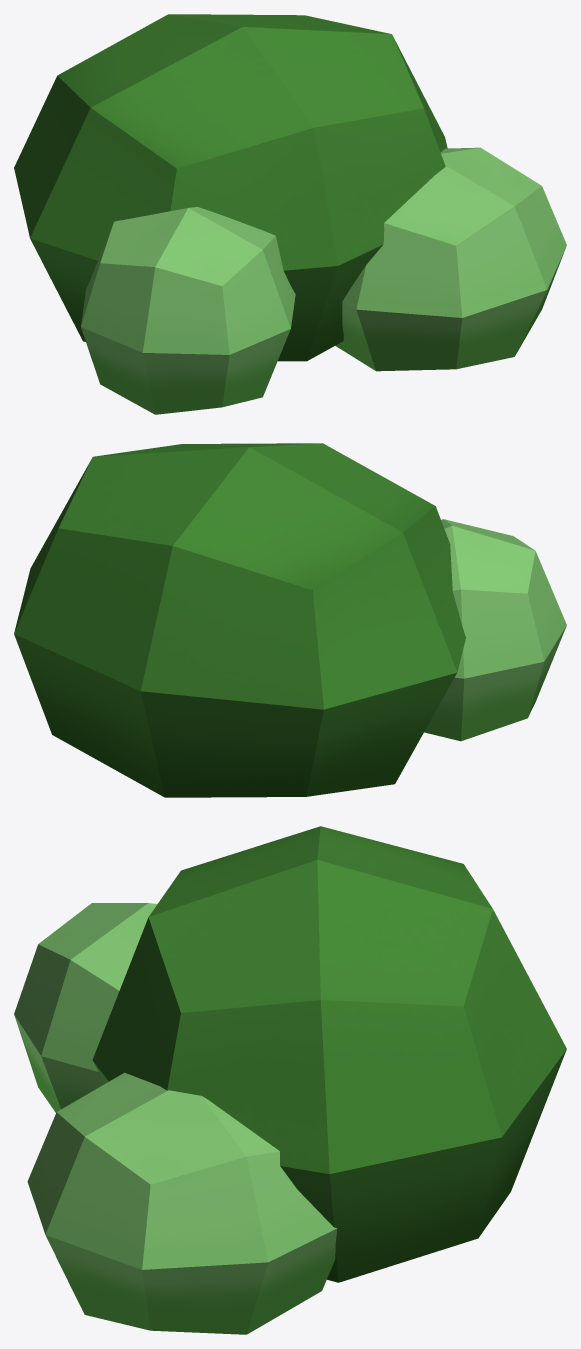
File: Bush 1.fbx
The picture shows the model from 3 angles, top to bottom: view 1: azimuth 30°, elevation 25°; view 2: azimuth 150°, elevation 25°; view 3: azimuth 270°, elevation 25°; orthographic projection. The views are drawn at different scales.
Parts seen in each view (by area): view 1: Bush 1.001; view 2: Bush 1.001; view 3: Bush 1.001.
Part boxes in pixels (<box>): Bush 1.001: <box>14,14,566,414</box>; Bush 1.001: <box>14,443,566,797</box>; Bush 1.001: <box>14,826,566,1334</box>.
Size of the model in its own units: 123 by 81.65 by 105.
